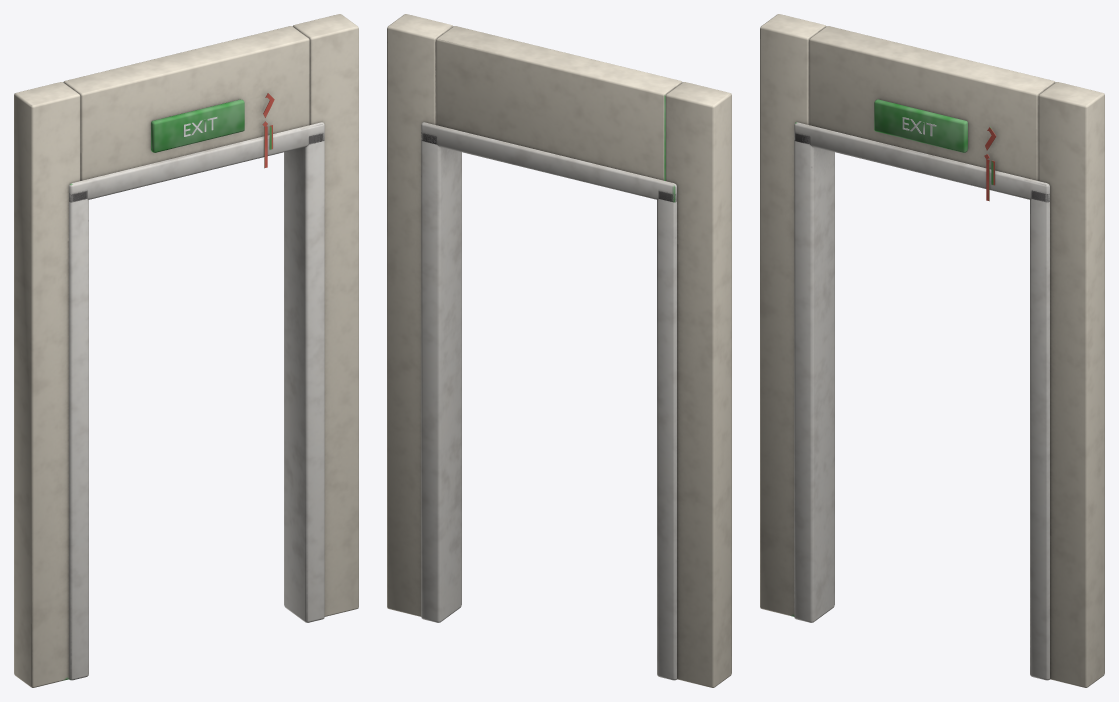
Rendered from door_frame.fbx.
The picture shows the model from 3 angles, left to right: view 1: azimuth 30°, elevation 25°; view 2: azimuth 150°, elevation 25°; view 3: azimuth 330°, elevation 25°; orthographic projection.
Visible parts, largest first — view 1: Body, Glow; view 2: Body; view 3: Body, Glow.
Part boxes in pixels (bbox=[...]): Body: bbox=[14, 14, 358, 687]; Glow: bbox=[151, 99, 244, 152]; Body: bbox=[387, 14, 731, 687]; Body: bbox=[760, 14, 1104, 687]; Glow: bbox=[874, 99, 967, 152].
Size of the model in its own units: 5 by 8.5 by 0.6725.
1 material, 1 textured.
